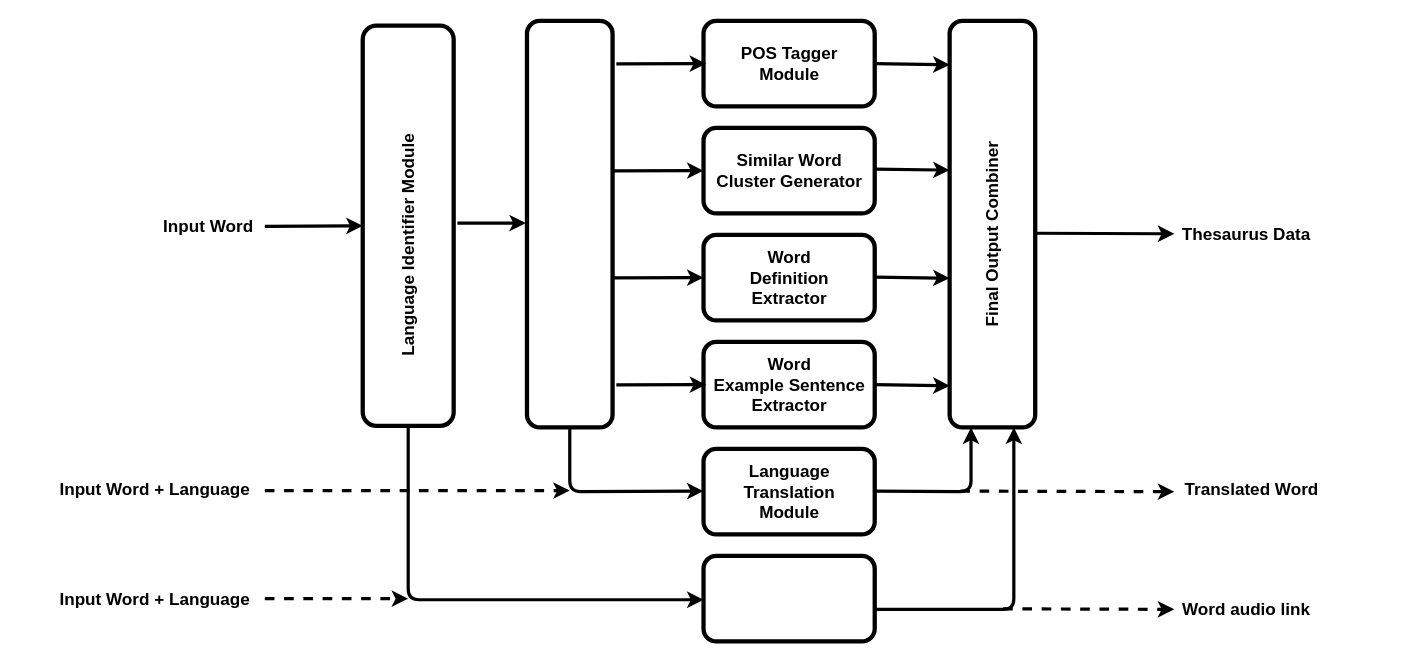
Image size: 1406x661. Some labels were removed from this diagram. Here are the shapes that lost their labels. From the top down, the centre of each, then its label:
[569,223]: Spell Checker Module
[788,598]: TTS Module
